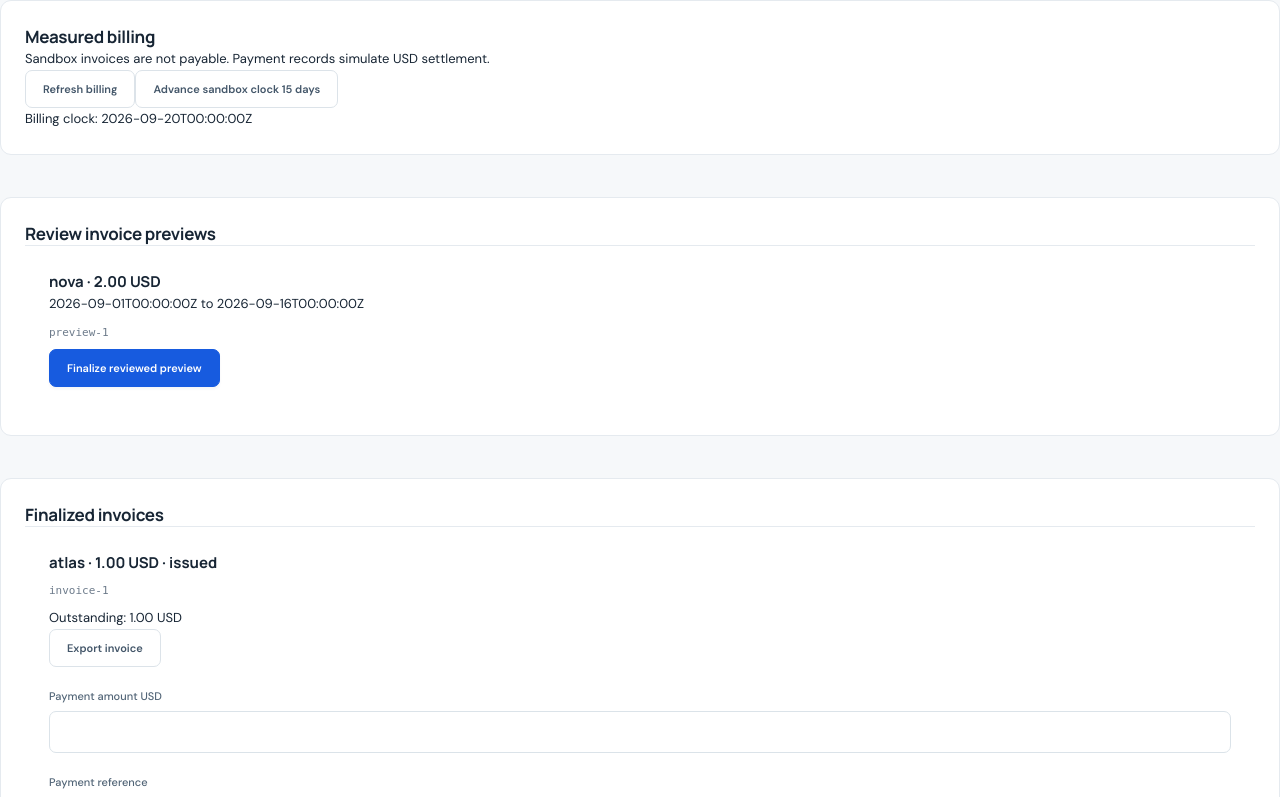
Test: validation rejection releases saved operation and shows actionable error
The width and height of the screenshot is (1280, 797).
Click the button "Finalize reviewed preview".
click(134, 368)  # box [49,348,220,386]
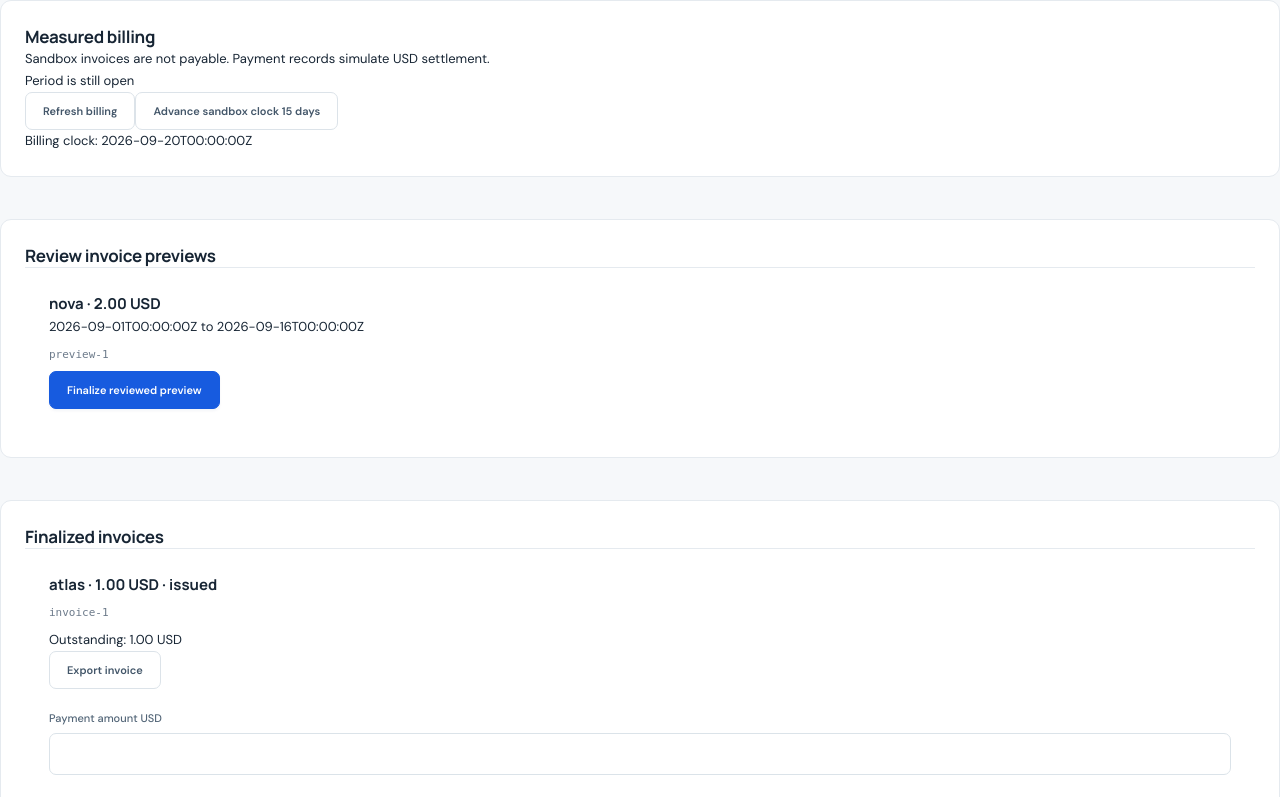
Check: the message reads "Period is still open", box [25,72,134,89]
